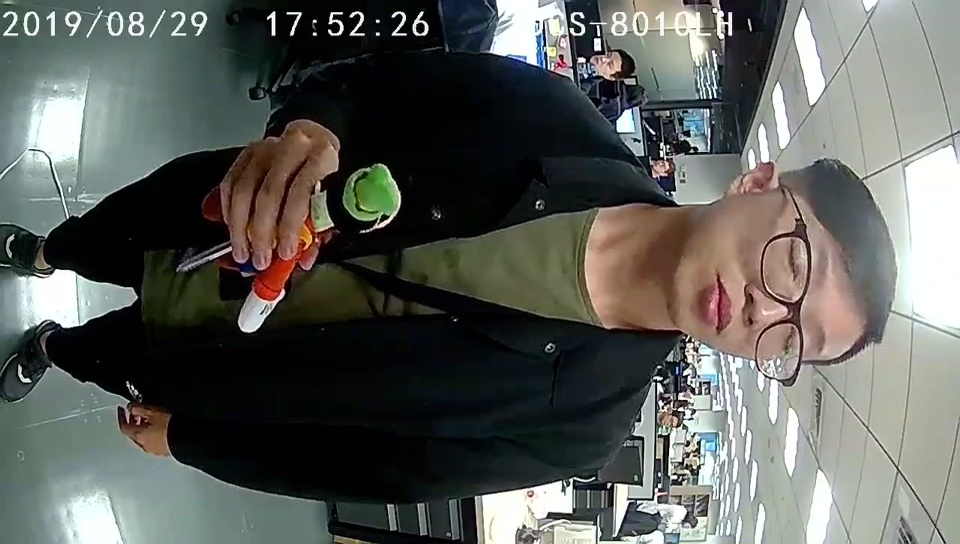goofy: (203, 163, 403, 330)
